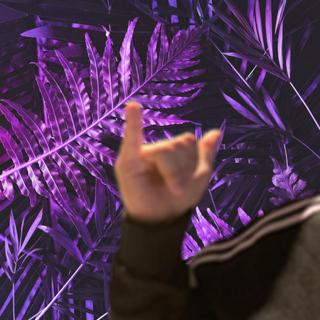HAVE: (105, 95, 232, 222)
